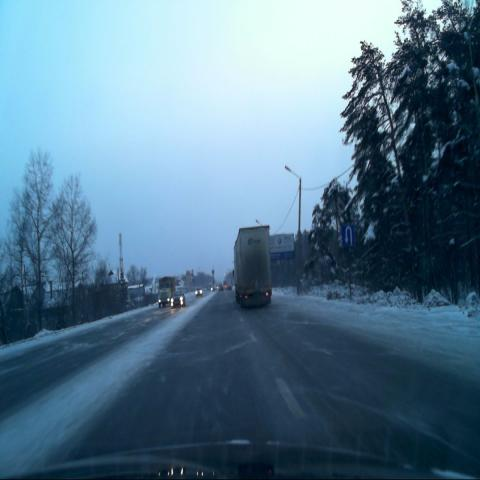6_3_1: (342, 223, 354, 248)
